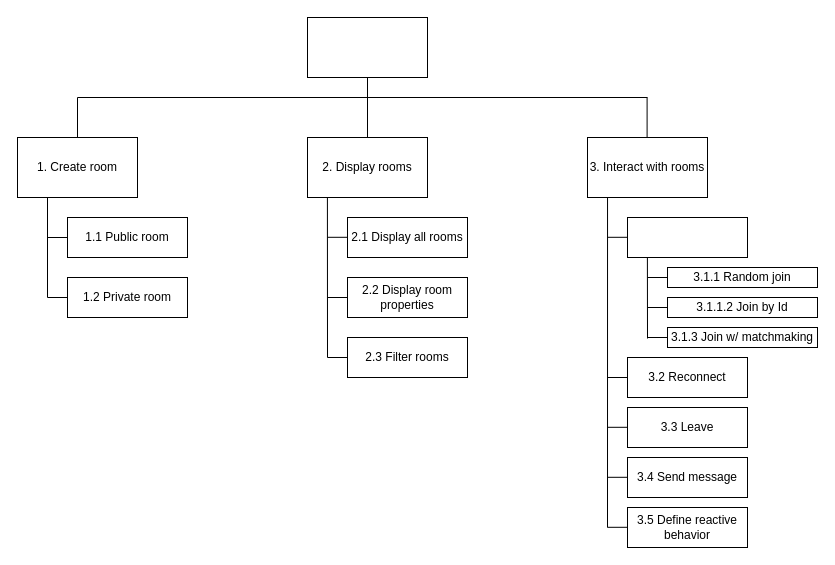
The diagram is 835 pixels wide and 565 high, and some of its shapes have lost their labels. The shapes that lost their labels are listed below. From the top down, each one's centre as x and y in pixels, then its label:
At (367,47): "Client".
At (687,237): "3.1 Join".
